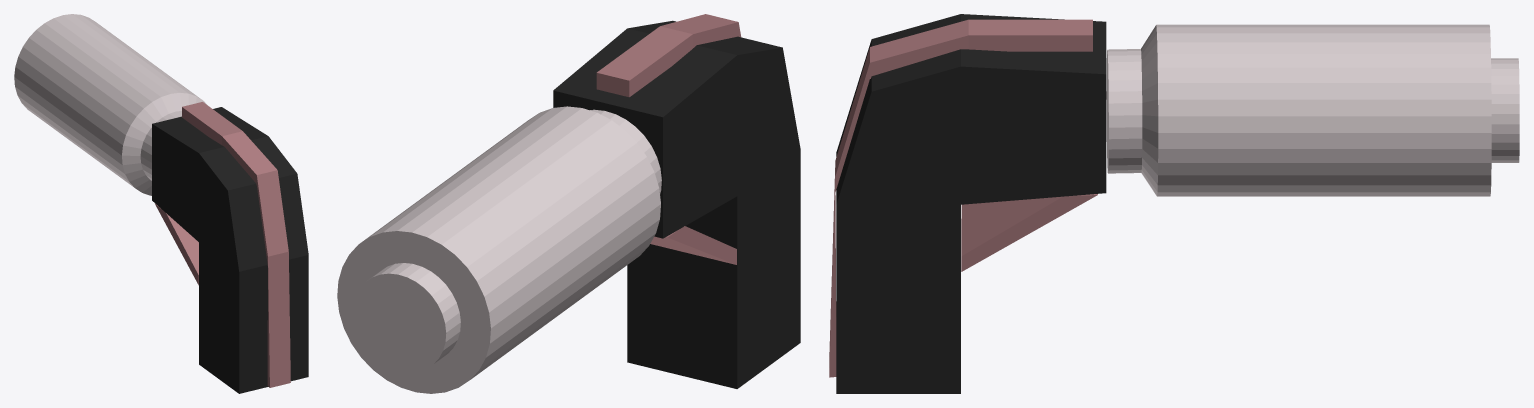
Rendered from LazerGun.fbx.
The picture shows the model from 3 angles, left to right: view 1: azimuth 30°, elevation 25°; view 2: azimuth 150°, elevation 25°; view 3: azimuth 270°, elevation 25°; orthographic projection. The views are drawn at different scales.
Parts seen in each view (by area): view 1: Cube, Cylinder, Cube.001; view 2: Cylinder, Cube, Cube.001; view 3: Cylinder, Cube, Cube.001.
Part boxes in pixels (x1,y1,x2,y2): Cube: (152,107,308,393); Cylinder: (14,14,207,195); Cube.001: (155,102,290,387); Cylinder: (337,106,661,393); Cube: (553,20,800,388); Cube.001: (596,14,741,264); Cylinder: (1106,24,1519,196); Cube: (836,14,1106,393); Cube.001: (829,19,1097,377).
Bounding box in the file's own units: 277 × 605 × 1110.
